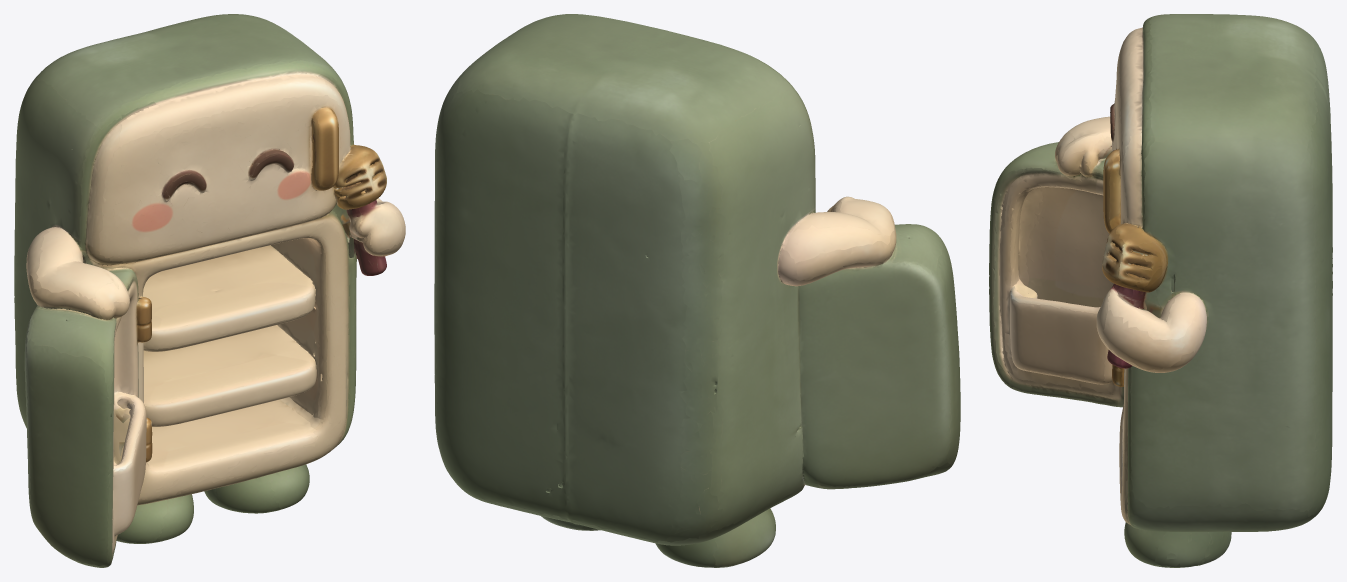
The picture shows the model from 3 angles, left to right: view 1: azimuth 30°, elevation 25°; view 2: azimuth 150°, elevation 25°; view 3: azimuth 270°, elevation 25°; orthographic projection. The views are drawn at different scales.
Visible parts, largest first — view 1: geometry_0; view 2: geometry_0; view 3: geometry_0.
Part boxes in pixels (box(x1,y1,x2,y2)): geometry_0: box(14, 14, 405, 567); geometry_0: box(434, 14, 960, 567); geometry_0: box(989, 14, 1332, 567).
Size of the model in its own units: 0.1436 by 0.15 by 0.0999.
Materials: 1 (1 with a texture image).
